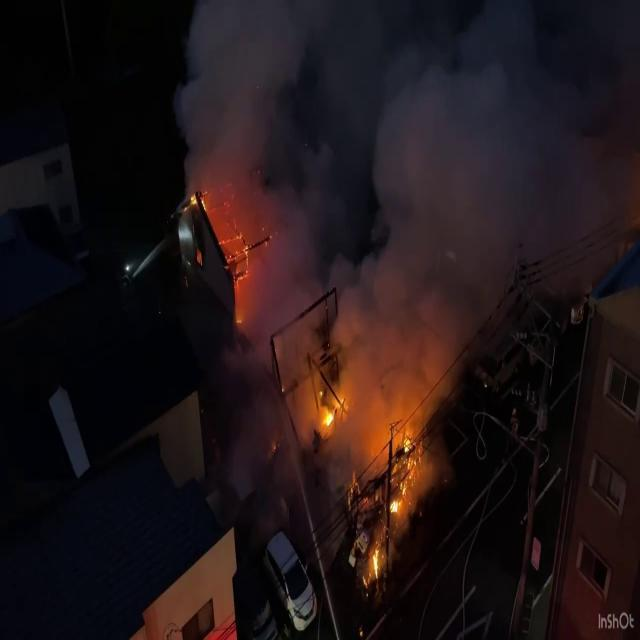Fire: (344, 406, 422, 612), (313, 386, 346, 435)
Smoke: (172, 0, 640, 422)
